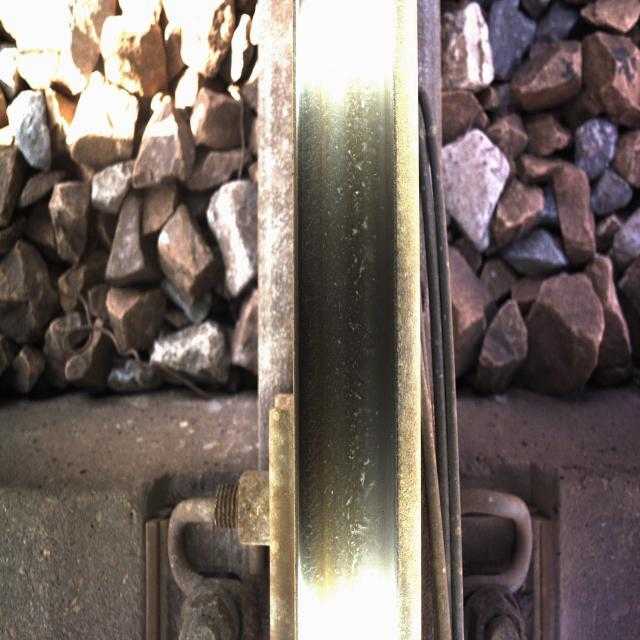normal: (299, 0, 391, 618)
